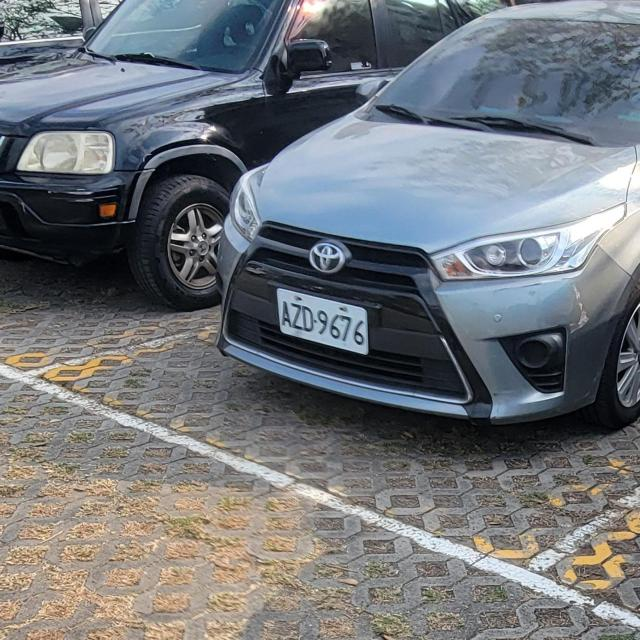W: (276, 287, 369, 357)
